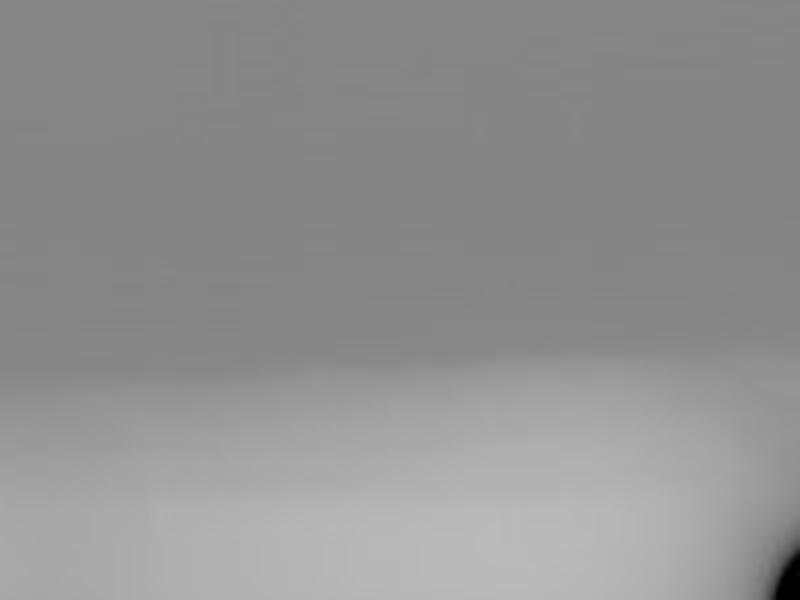defect: (774, 542, 799, 600)
